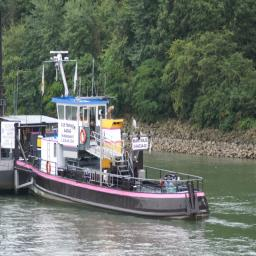tugboat: (14, 47, 213, 225)
